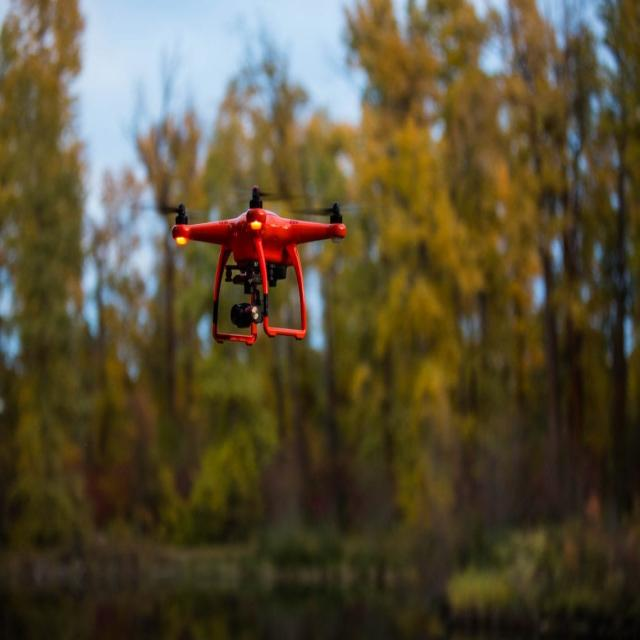drone: (131, 182, 367, 350)
